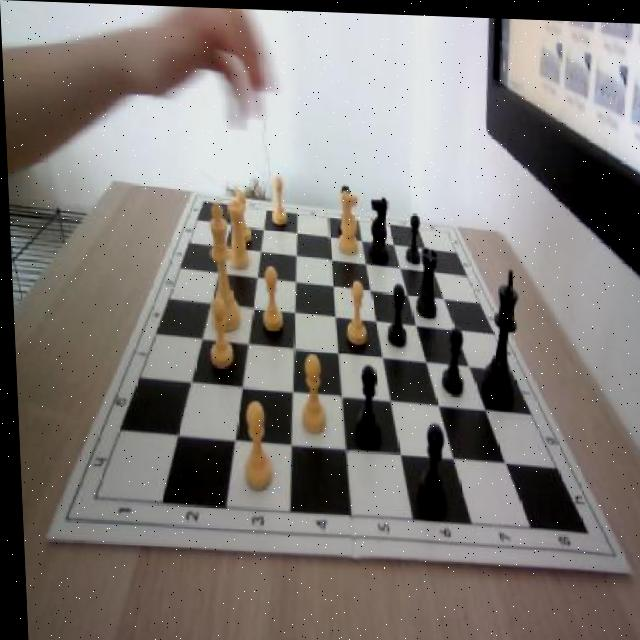black-bishop: (475, 266, 521, 403)
black-king: (365, 191, 389, 263)
black-knight: (413, 420, 445, 509), (349, 361, 378, 447), (435, 323, 462, 393), (383, 279, 407, 347), (402, 210, 420, 263)
black-queen: (412, 240, 441, 317)
white-bishop: (201, 200, 238, 331)
white-king: (334, 185, 359, 253)
white-knight: (235, 399, 271, 490), (293, 348, 327, 434), (202, 294, 232, 370), (255, 264, 281, 333), (343, 276, 366, 342), (268, 175, 288, 224), (231, 190, 250, 240)
white-queen: (224, 197, 249, 268)
